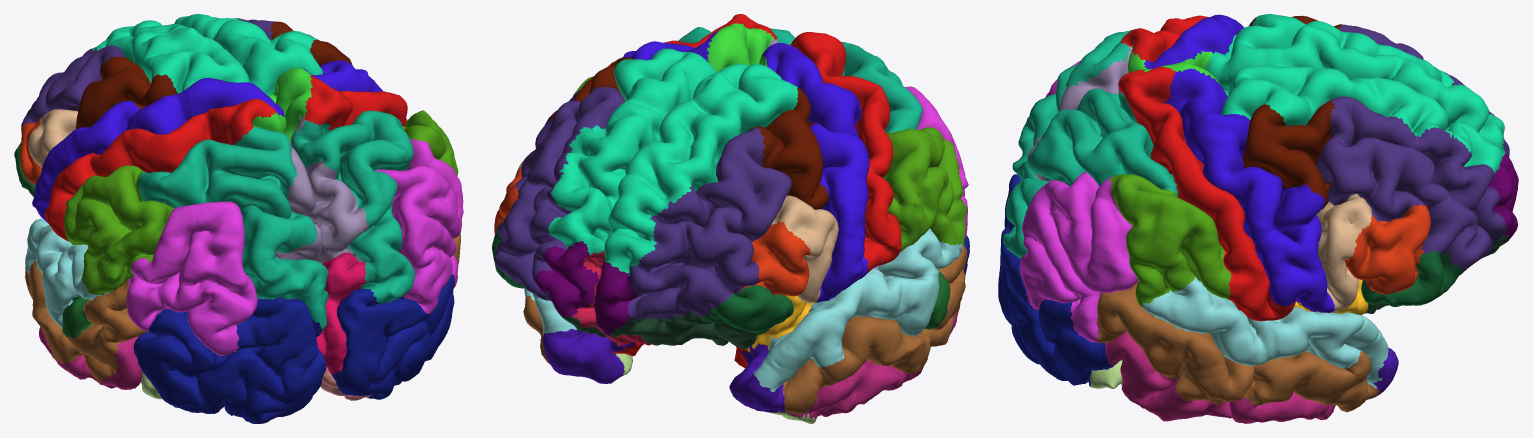
The model's file is cortex-desikan.glb.
3 views of the same model, side by side, from view 1: azimuth 30°, elevation 25°; view 2: azimuth 150°, elevation 25°; view 3: azimuth 270°, elevation 25° (orthographic). The views are drawn at different scales.
Parts seen in each view (by area): view 1: desikan:left:11, desikan:left:29, desikan:left:8, desikan:right:29, desikan:right:11, desikan:left:31, desikan:right:8, desikan:left:22, desikan:left:24, desikan:left:28, desikan:left:15, desikan:right:28 (+17 smaller); view 2: desikan:left:27, desikan:left:28, desikan:right:28, desikan:left:30, desikan:left:24, desikan:right:27, desikan:left:31, desikan:left:15, desikan:left:22, desikan:left:3, desikan:right:33, desikan:left:18 (+20 smaller); view 3: desikan:right:27, desikan:right:24, desikan:right:15, desikan:right:8, desikan:left:28, desikan:right:30, desikan:right:29, desikan:right:22, desikan:right:28, desikan:right:31, desikan:right:11, desikan:right:9 (+14 smaller).
Part boxes in pixels (box(x1,y1,x2,y2)): desikan:left:11: box(133, 297, 326, 423); desikan:left:29: box(138, 126, 328, 333); desikan:left:8: box(126, 201, 257, 355); desikan:right:29: box(291, 110, 414, 303); desikan:right:11: box(331, 274, 454, 399); desikan:left:31: box(63, 165, 174, 294); desikan:right:8: box(376, 138, 463, 314); desikan:left:22: box(44, 98, 276, 241); desikan:left:24: box(32, 77, 284, 222); desikan:left:28: box(92, 20, 249, 93); desikan:left:15: box(25, 261, 146, 384); desikan:right:28: box(174, 14, 322, 95); desikan:left:27: box(627, 127, 791, 319); desikan:left:28: box(604, 63, 798, 276); desikan:right:28: box(548, 48, 716, 254); desikan:left:30: box(753, 228, 963, 392); desikan:left:24: box(762, 43, 869, 302); desikan:right:27: box(494, 86, 625, 301); desikan:left:31: box(883, 127, 967, 251); desikan:left:15: box(782, 245, 967, 414); desikan:left:22: box(791, 32, 901, 272); desikan:left:3: box(747, 87, 828, 209); desikan:right:33: box(543, 329, 636, 383); desikan:left:18: box(771, 195, 838, 303); desikan:right:27: box(1315, 96, 1507, 271); desikan:right:24: box(1164, 68, 1335, 312); desikan:right:15: box(1093, 283, 1379, 412); desikan:right:8: box(1019, 171, 1138, 342); desikan:left:28: box(1205, 14, 1505, 155); desikan:right:30: box(1142, 276, 1388, 388); desikan:right:29: box(1003, 88, 1178, 258); desikan:right:22: box(1118, 66, 1296, 321); desikan:right:28: box(1221, 65, 1502, 174); desikan:right:31: box(1109, 174, 1231, 306); desikan:right:11: box(998, 221, 1112, 386); desikan:right:9: box(1105, 331, 1335, 423).
Bounding box in the file's own units: 0.1284 × 0.103 × 0.1464.
